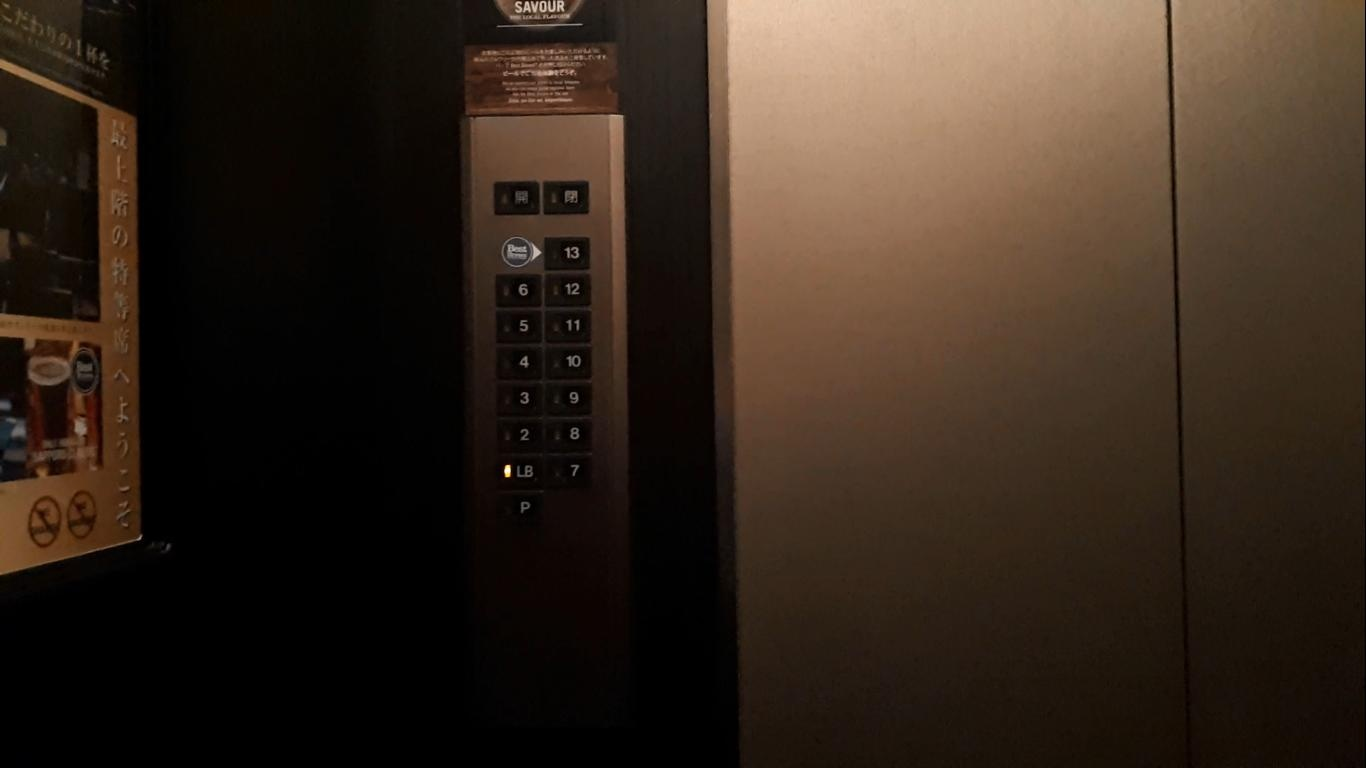10: (543, 339, 593, 378)
11: (543, 303, 593, 342)
12: (543, 268, 593, 308)
13: (541, 233, 591, 273)
2: (494, 413, 546, 453)
3: (494, 377, 546, 417)
4: (493, 339, 545, 379)
5: (493, 303, 545, 343)
6: (492, 270, 544, 310)
7: (543, 450, 595, 492)
8: (542, 413, 594, 453)
9: (543, 377, 594, 416)
LB: (494, 451, 547, 493)
P: (493, 489, 546, 531)
text: (540, 178, 590, 215), (490, 178, 540, 215)
